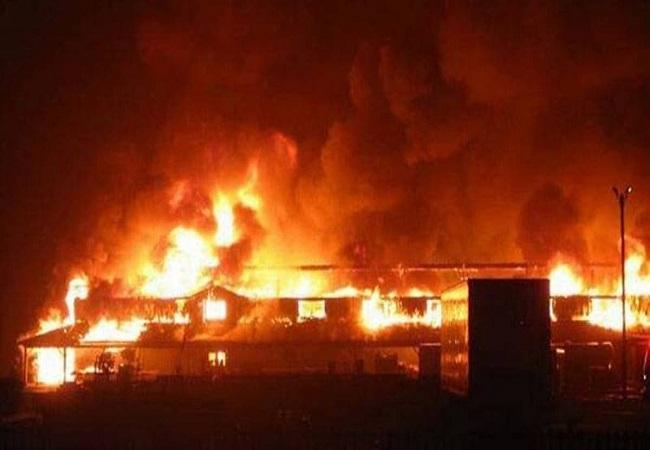fire: (132, 166, 271, 290), (545, 199, 649, 343), (51, 274, 98, 327), (609, 245, 650, 292), (542, 253, 586, 292), (595, 298, 638, 330), (85, 321, 142, 344), (280, 251, 309, 296), (359, 298, 400, 325), (405, 301, 446, 327), (199, 346, 236, 374), (38, 352, 72, 382), (195, 298, 234, 321), (325, 285, 363, 298)
